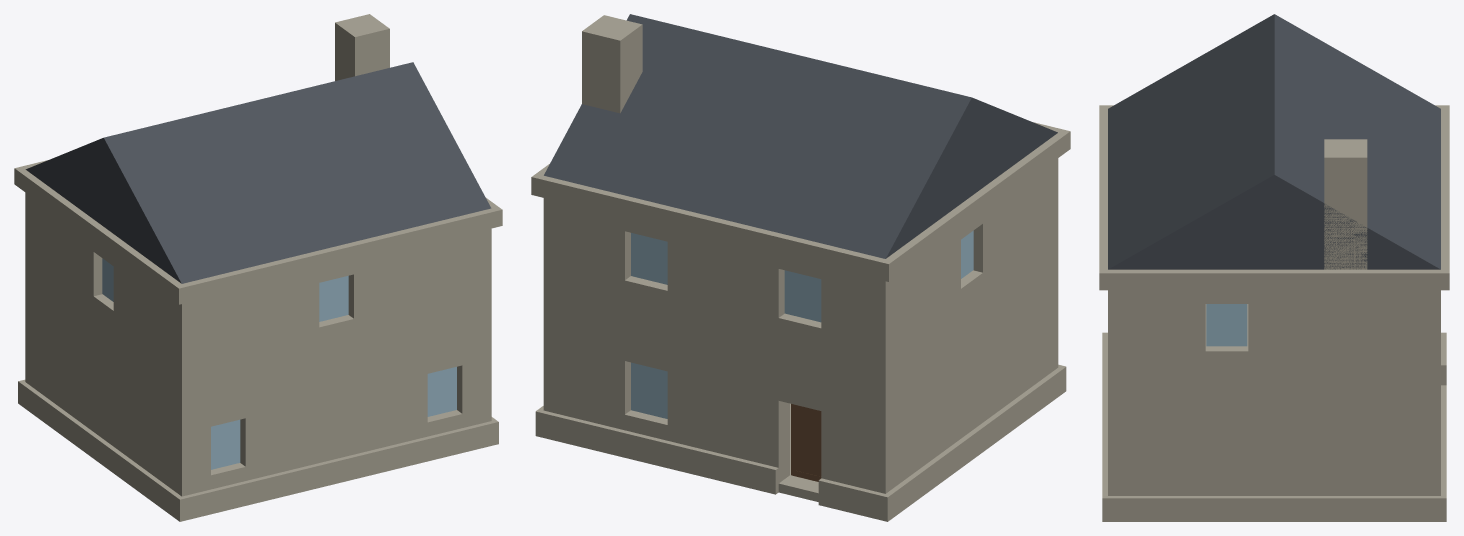
The picture shows the model from 3 angles, left to right: view 1: azimuth 30°, elevation 25°; view 2: azimuth 150°, elevation 25°; view 3: azimuth 270°, elevation 25°; orthographic projection. The views are drawn at different scales.
Visible parts, largest first — view 1: body_stone, roof_slate, trim_stone, glass_glass (×3); view 2: body_stone, roof_slate, trim_stone, glass_glass (×3), door_timber; view 3: body_stone, roof_slate, trim_stone, glass_glass.
Boxes of the visible parts, x1=… form: body_stone: x1=25, y1=14, x2=491, y2=496; roof_slate: x1=25, y1=62, x2=491, y2=283; trim_stone: x1=14, y1=160, x2=502, y2=521; glass_glass (×3): x1=211, y1=275, x2=456, y2=469; body_stone: x1=543, y1=15, x2=1058, y2=501; roof_slate: x1=544, y1=14, x2=1057, y2=258; trim_stone: x1=531, y1=122, x2=1070, y2=521; glass_glass (×3): x1=631, y1=233, x2=821, y2=418; door_timber: x1=791, y1=404, x2=821, y2=481; body_stone: x1=1108, y1=139, x2=1440, y2=495; roof_slate: x1=1108, y1=14, x2=1440, y2=269; trim_stone: x1=1099, y1=105, x2=1449, y2=521; glass_glass: x1=1206, y1=304, x2=1247, y2=346.
Size of what is drawn, in the model's own units: 8.36 by 8.4 by 7.36.
